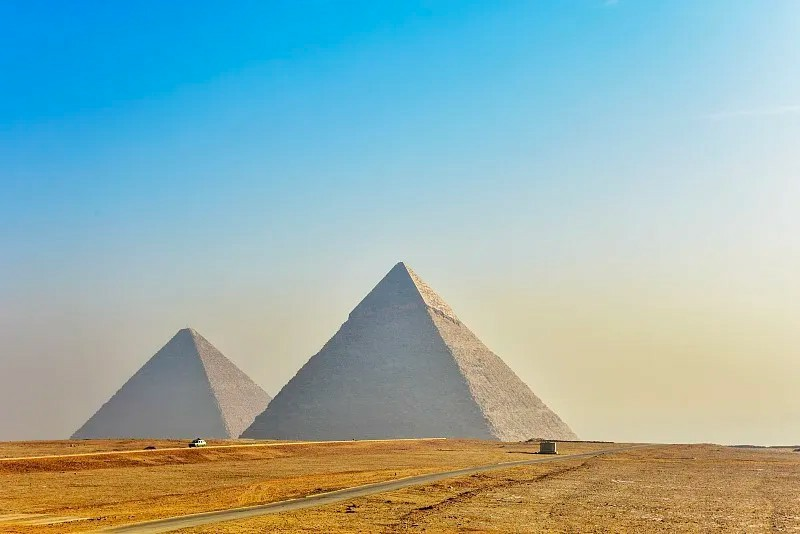Pyramid: (239, 263, 580, 442), (69, 328, 273, 439)
